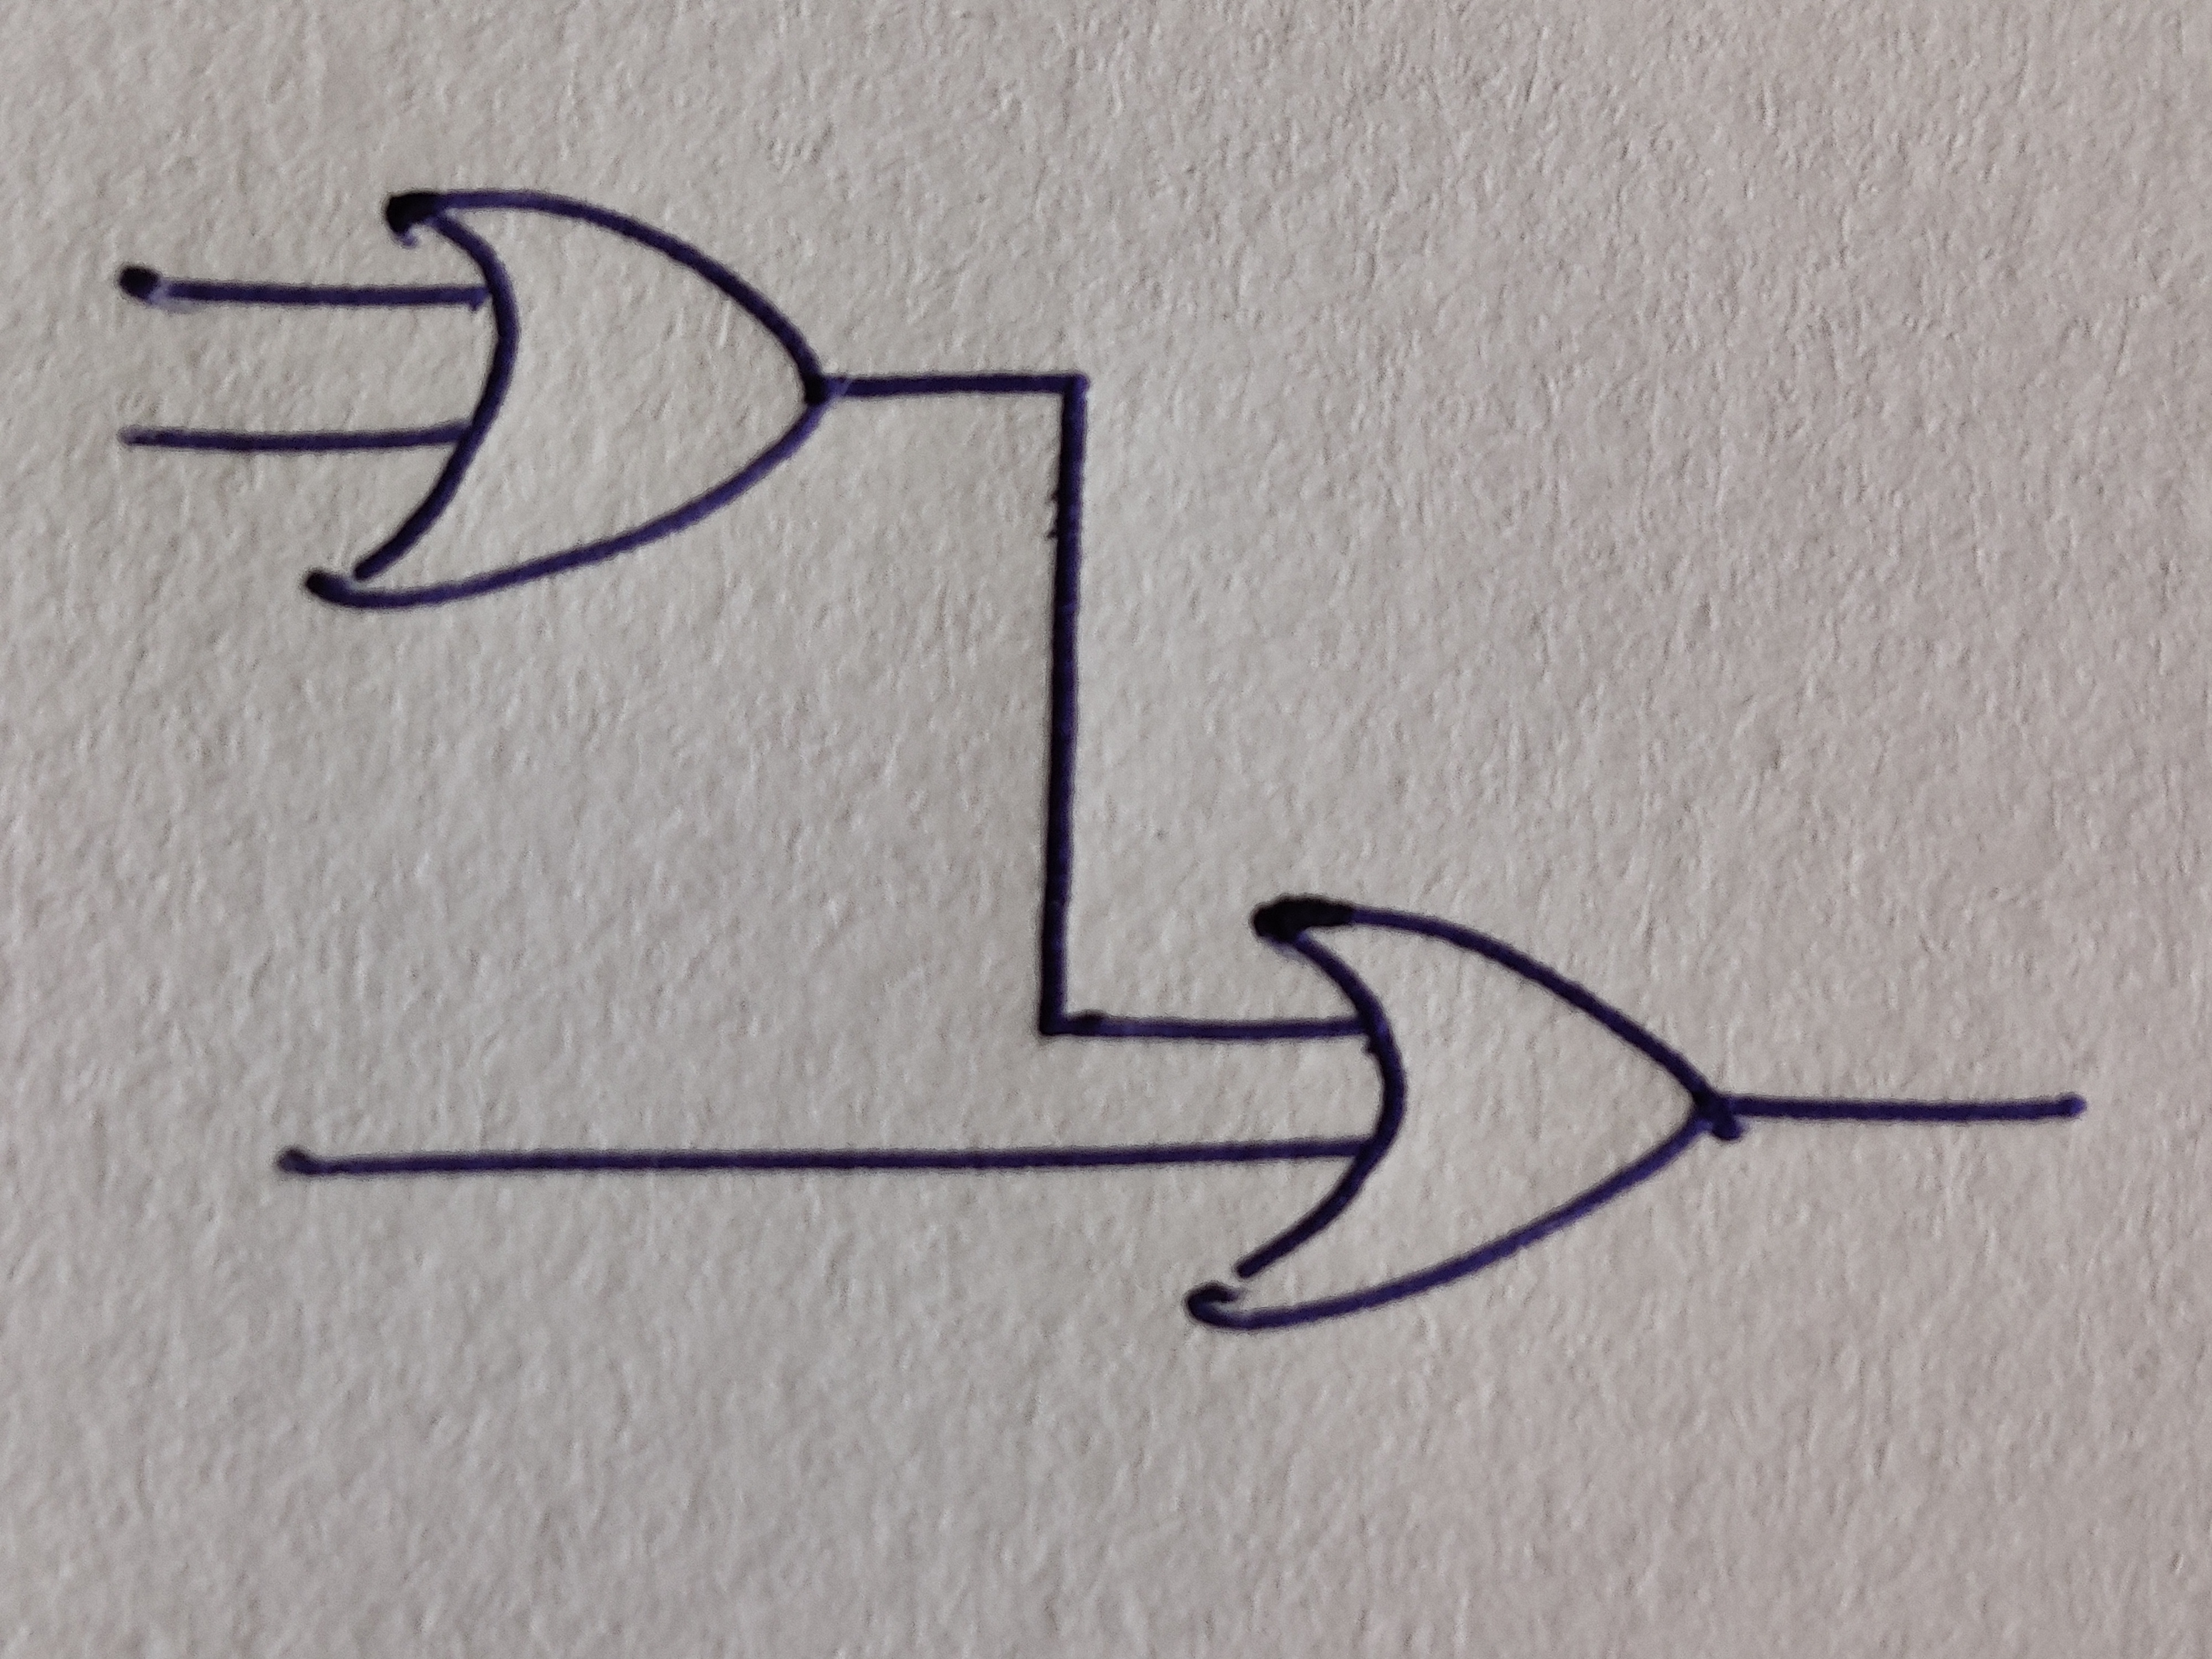or: (1183, 896, 1742, 1333), (308, 193, 829, 612)
